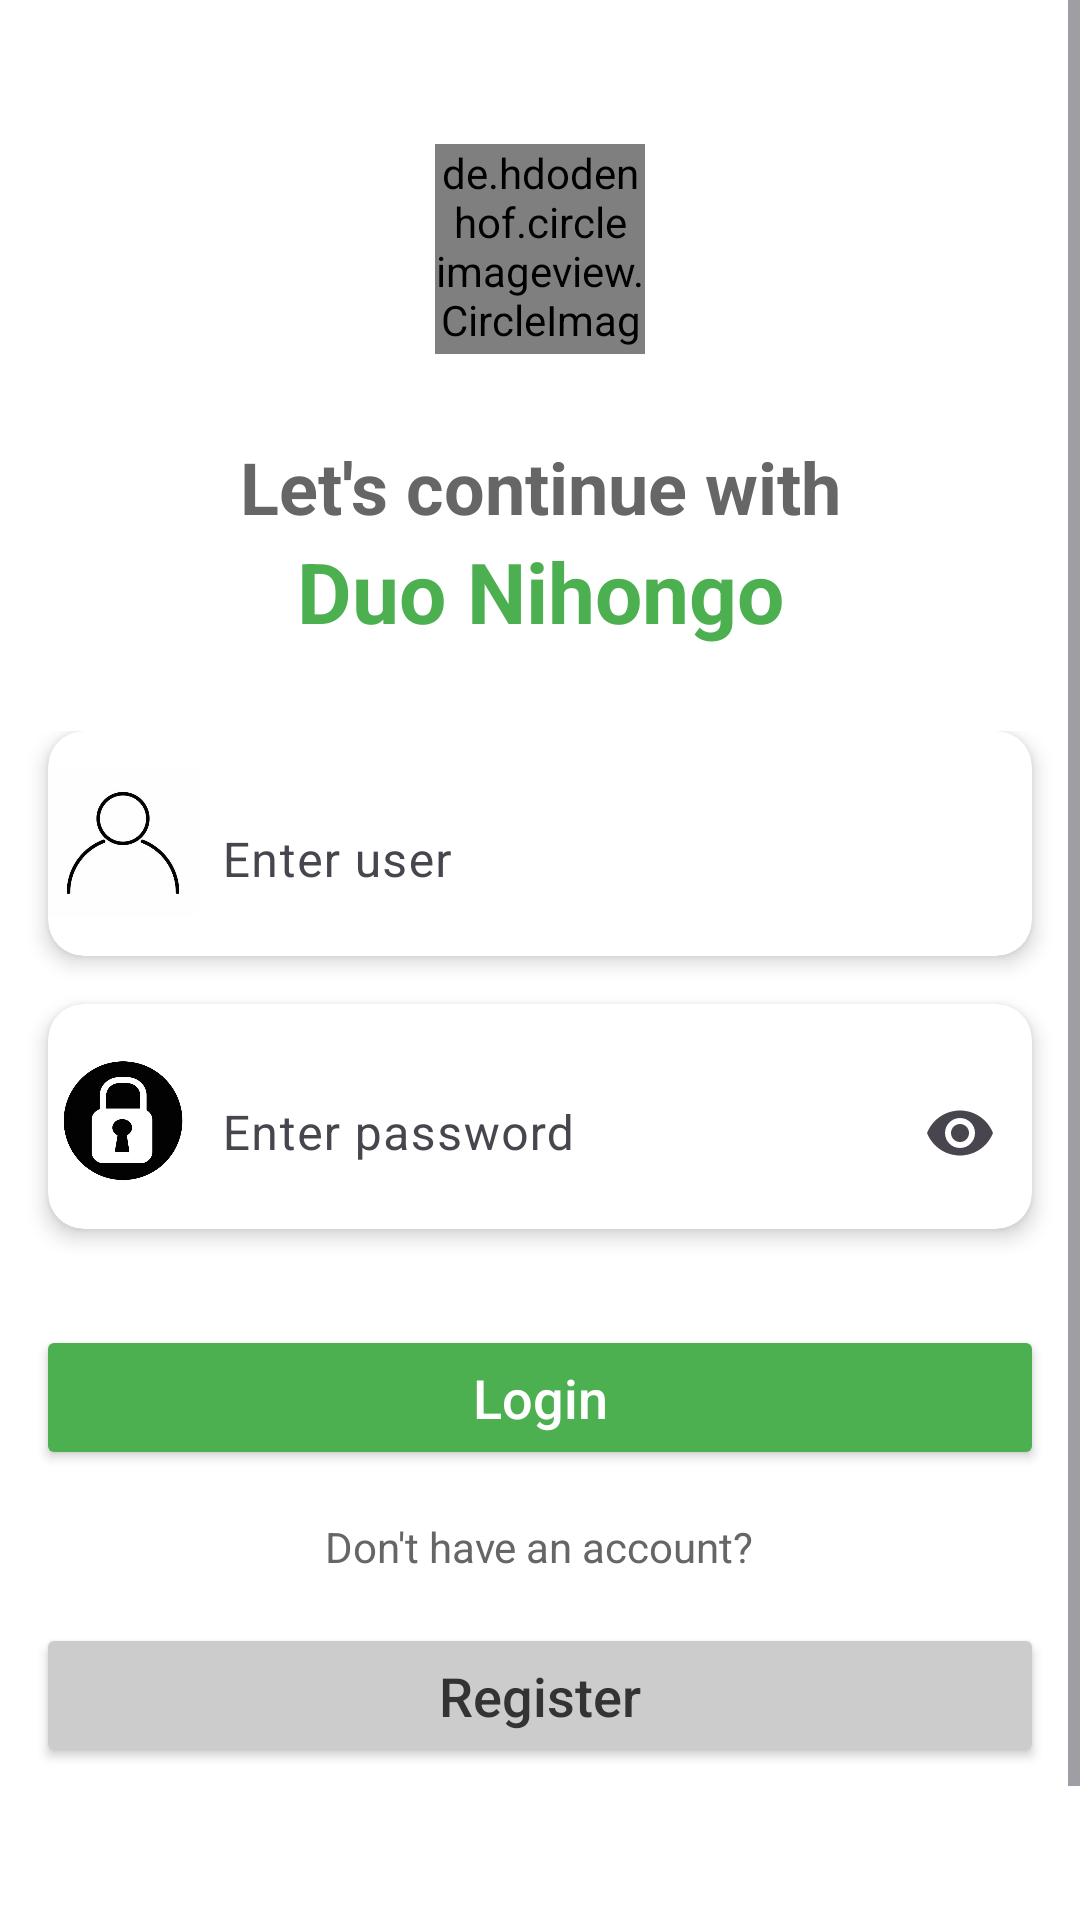

Icon bounding boxes for this 1080 × 1920 phone screenshot, format (x1, y1, x2, y2):
lock: (64, 1061, 183, 1180)
person: (50, 752, 179, 894)
